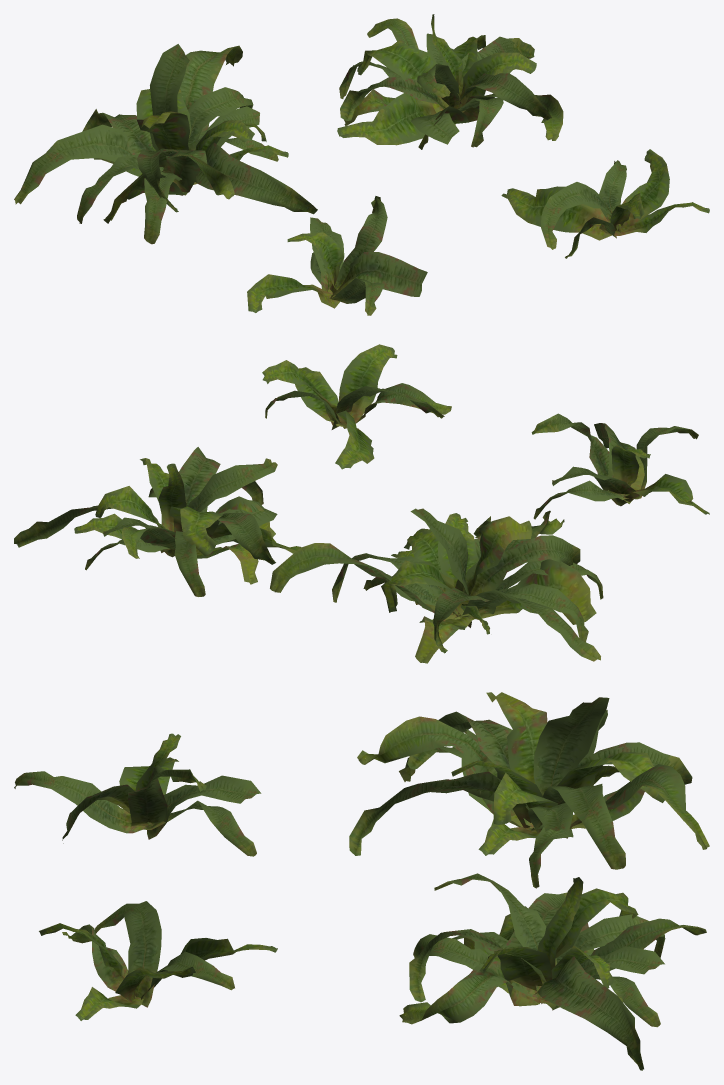
Rendered from fern.glb.
3 renders of one model, top to bottom at view 1: azimuth 30°, elevation 25°; view 2: azimuth 150°, elevation 25°; view 3: azimuth 270°, elevation 25°, orthographic. The views are drawn at different scales.
Visible parts, largest first — view 1: fern_02_b; view 2: fern_02_b; view 3: fern_02_b.
Boxes of the visible parts, x1,y1,x2,y2 form: fern_02_b: (14, 14, 709, 315); fern_02_b: (14, 344, 709, 663); fern_02_b: (14, 692, 709, 1070).
Bounding box in the file's own units: 1.97 × 0.4277 × 1.72.
Materials: 1 (1 with a texture image).
